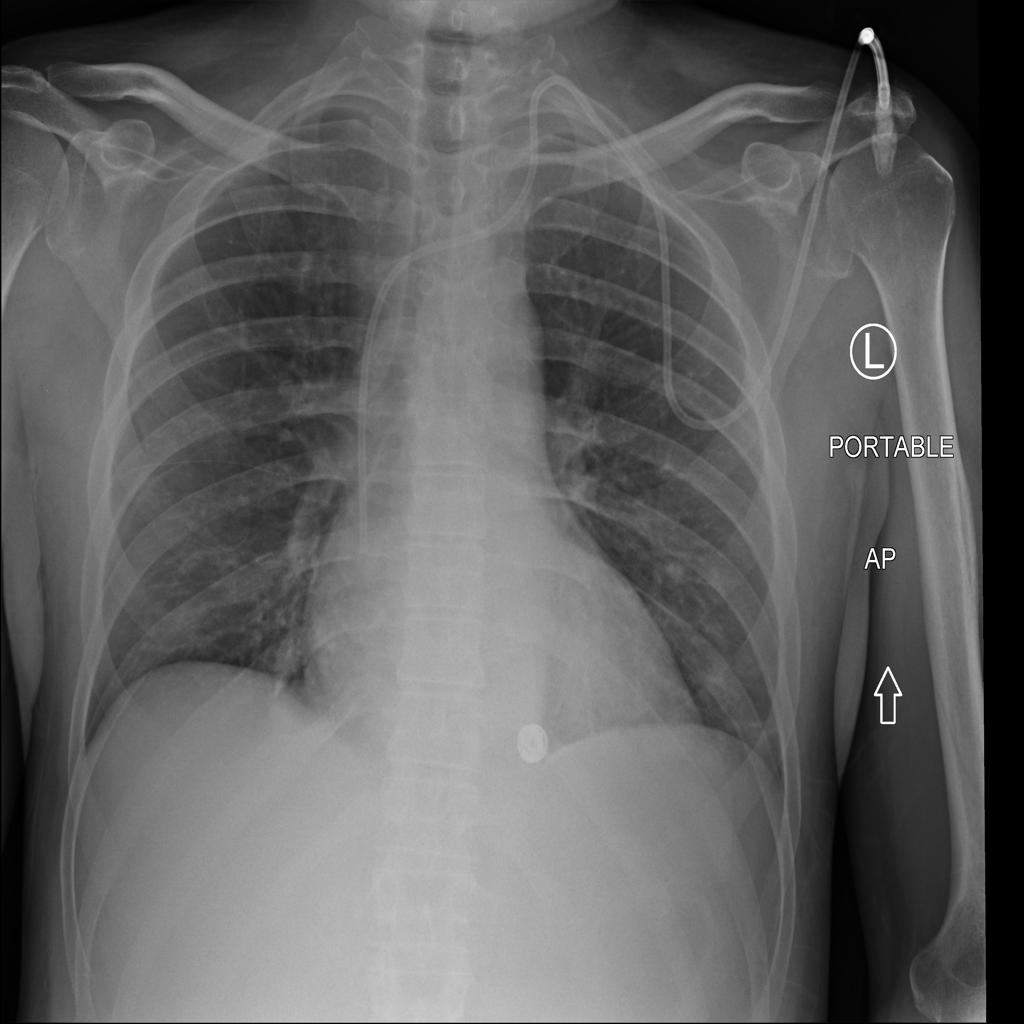nodule: (650, 548, 700, 596)
